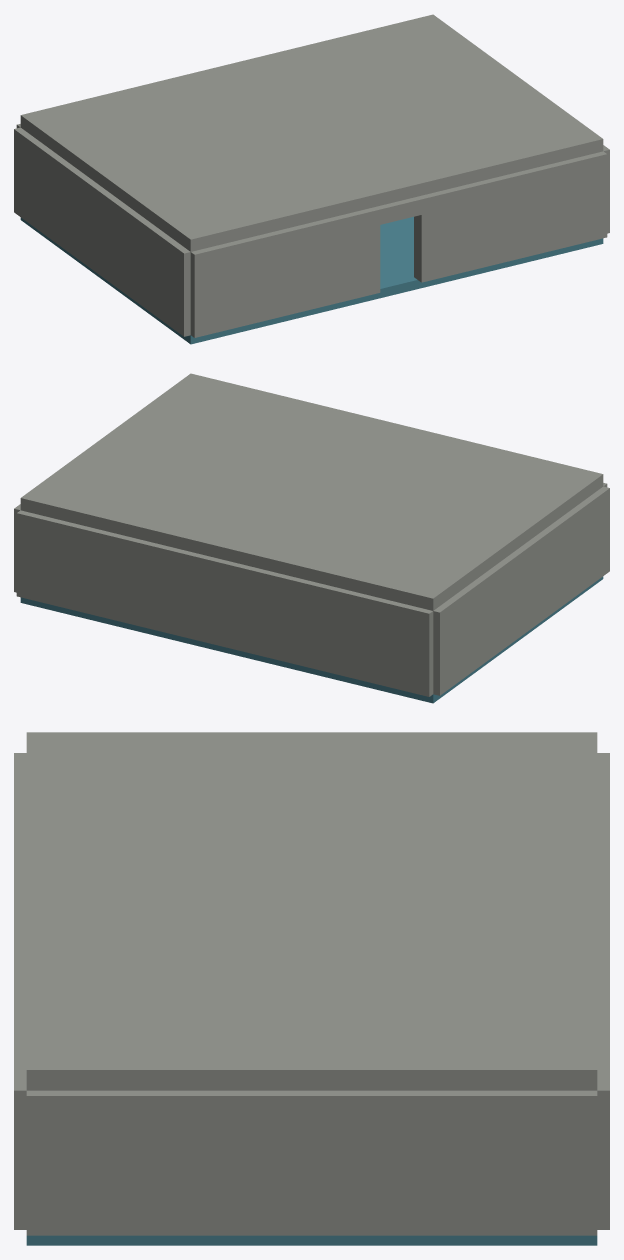
The model's file is HAR-016_CRYPT_INTERIOR_PLAYABLE_BLOCKOUT.fbx.
The picture shows the model from 3 angles, top to bottom: view 1: azimuth 30°, elevation 25°; view 2: azimuth 150°, elevation 25°; view 3: azimuth 270°, elevation 25°; orthographic projection. The views are drawn at different scales.
Parts seen in each view (by area): view 1: HAR016_BarrelVaultBlockout, HAR016_CryptWallsPlayableArches, HAR016_CryptWalkableFloor; view 2: HAR016_BarrelVaultBlockout, HAR016_CryptWallsPlayableArches, HAR016_CryptWalkableFloor; view 3: HAR016_BarrelVaultBlockout, HAR016_CryptWallsPlayableArches, HAR016_CryptWalkableFloor.
Boxes of the visible parts, x1,y1,x2,y2 form: HAR016_BarrelVaultBlockout: [20, 14, 603, 251]; HAR016_CryptWallsPlayableArches: [14, 124, 609, 337]; HAR016_CryptWalkableFloor: [20, 216, 603, 344]; HAR016_BarrelVaultBlockout: [20, 373, 603, 610]; HAR016_CryptWallsPlayableArches: [14, 483, 609, 696]; HAR016_CryptWalkableFloor: [20, 576, 603, 703]; HAR016_BarrelVaultBlockout: [26, 732, 597, 1090]; HAR016_CryptWallsPlayableArches: [14, 753, 609, 1235]; HAR016_CryptWalkableFloor: [26, 1235, 597, 1245].
Bounding box in the file's own units: 14.45 × 3.4 × 10.45.
